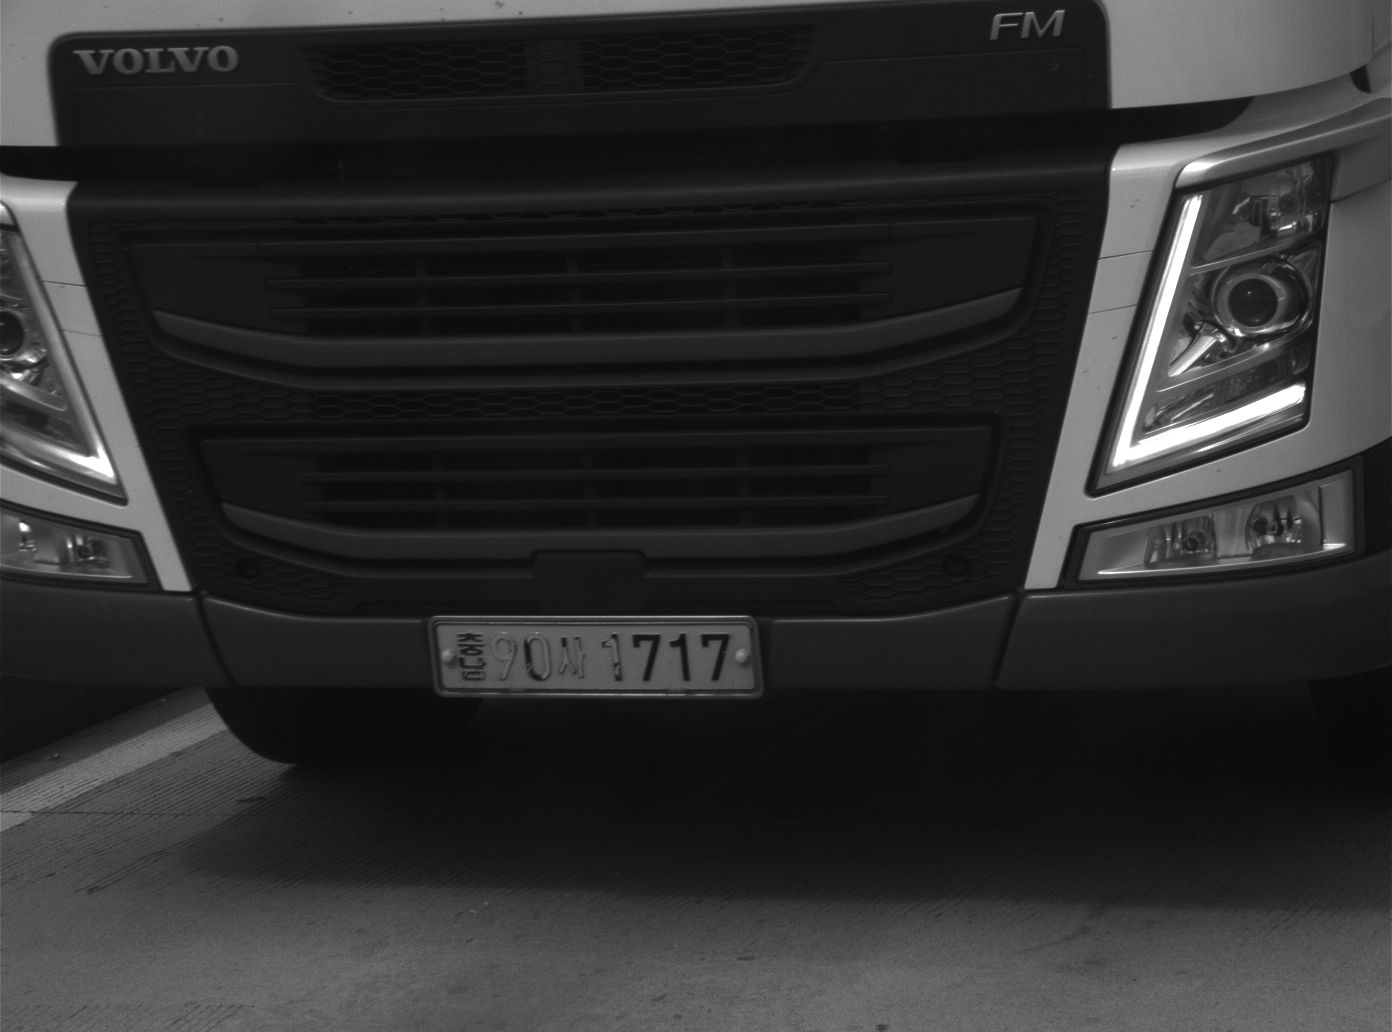car: (1, 1, 1390, 764)
plate: (426, 611, 766, 702)
